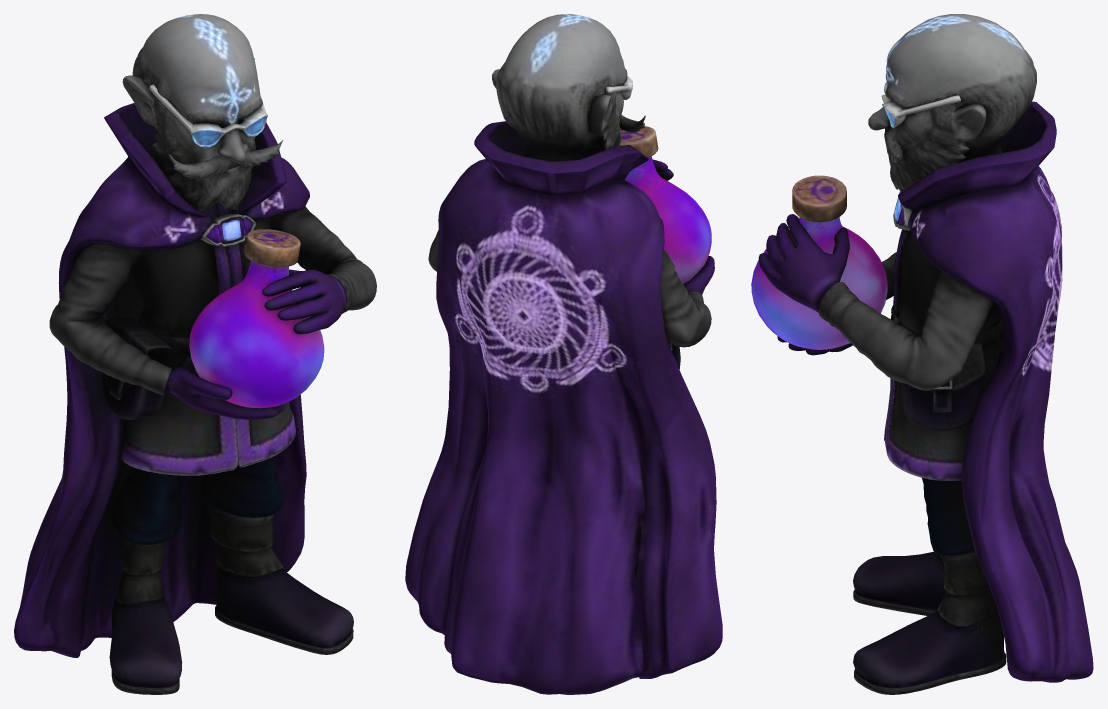
File: MZ4250 - Gnome Male Alchemist Artificer Old_c.glb
3 renders of one model, left to right at view 1: azimuth 30°, elevation 25°; view 2: azimuth 150°, elevation 25°; view 3: azimuth 270°, elevation 25°, orthographic. The views are drawn at different scales.
Visible parts, largest first — view 1: Buckle Fancy.001; view 2: Buckle Fancy.001; view 3: Buckle Fancy.001.
Boxes of the visible parts, box(x1,y1,x2,y2) form: Buckle Fancy.001: box(14, 14, 376, 694); Buckle Fancy.001: box(405, 14, 722, 694); Buckle Fancy.001: box(751, 14, 1093, 694).
Bounding box in the file's own units: 0.2768 × 0.5273 × 0.253.
Materials: 1 (1 with a texture image).
